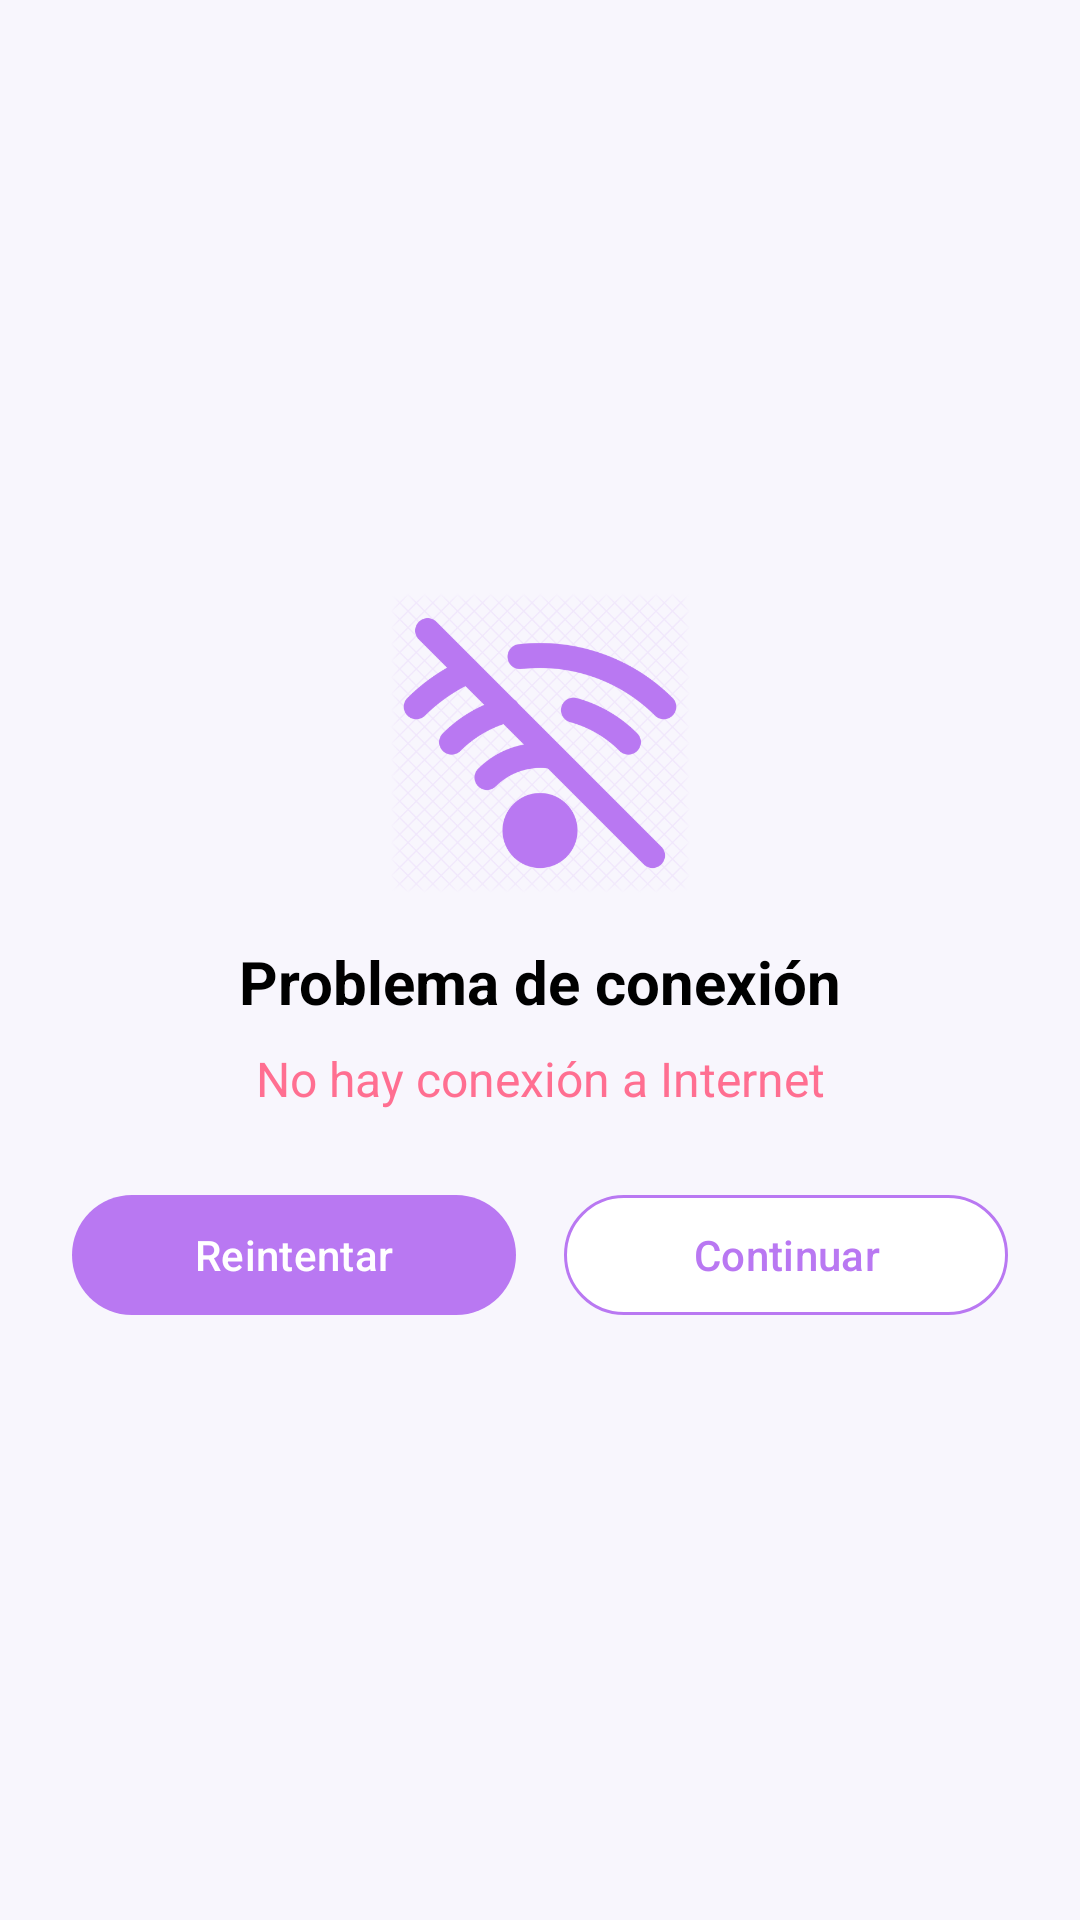

Where icons sit on this 1080w x 1920h app screen, as (x1, y1, x2, y2):
wifi apagado: (403, 618, 677, 868)
